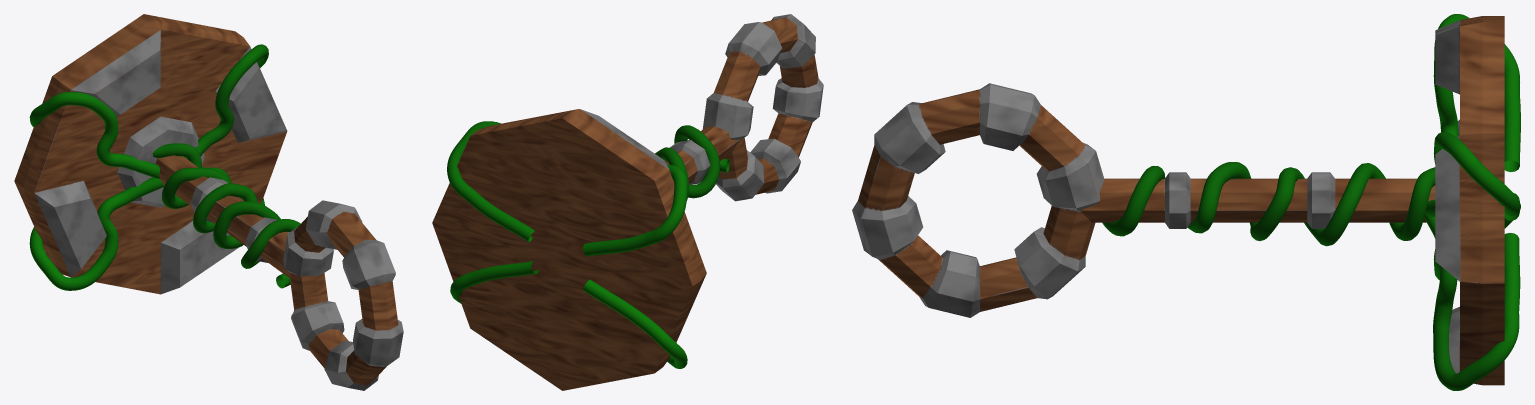
Rendered from Grapple Point.fbx.
3 views of the same model, side by side, from view 1: azimuth 30°, elevation 25°; view 2: azimuth 150°, elevation 25°; view 3: azimuth 270°, elevation 25° (orthographic). The views are drawn at different scales.
Visible parts, largest first — view 1: Grapple Point; view 2: Grapple Point; view 3: Grapple Point.
Part boxes in pixels (box(x1,y1,x2,y2)): Grapple Point: box(14, 14, 403, 390); Grapple Point: box(432, 14, 823, 390); Grapple Point: box(852, 14, 1520, 390).
Bounding box in the file's own units: 403 × 403 × 685.
